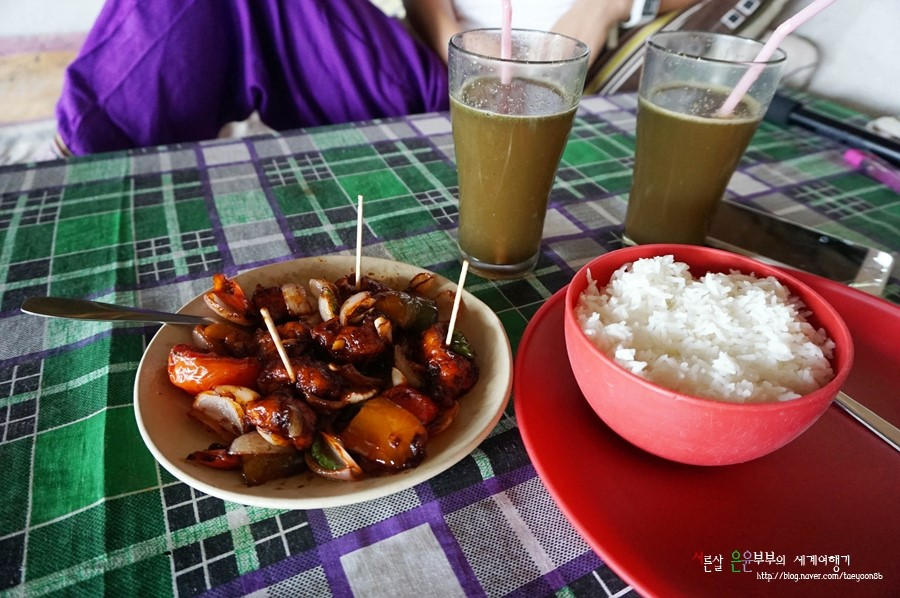plain rice: (604, 272, 809, 378)
